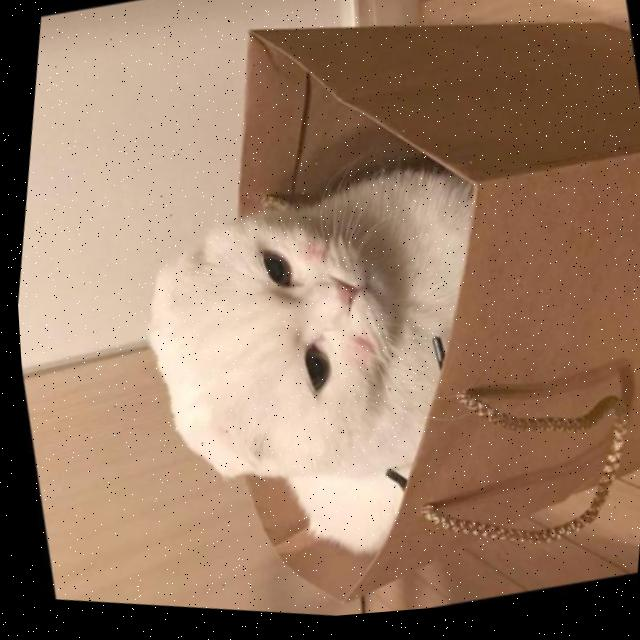Cats: (50, 101, 543, 611)
